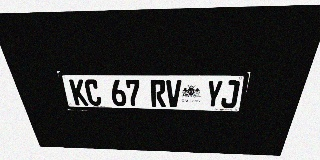6: (109, 80, 127, 106)
7: (124, 80, 141, 107)
C: (83, 79, 102, 106)
J: (220, 80, 240, 108)
K: (69, 79, 89, 106)
R: (150, 80, 166, 107)
V: (166, 80, 181, 107)
Y: (205, 80, 223, 108)
